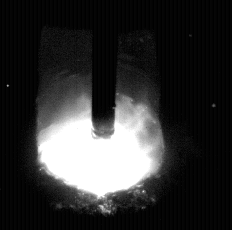arame: (93, 0, 116, 139)
poca: (37, 0, 165, 230)
